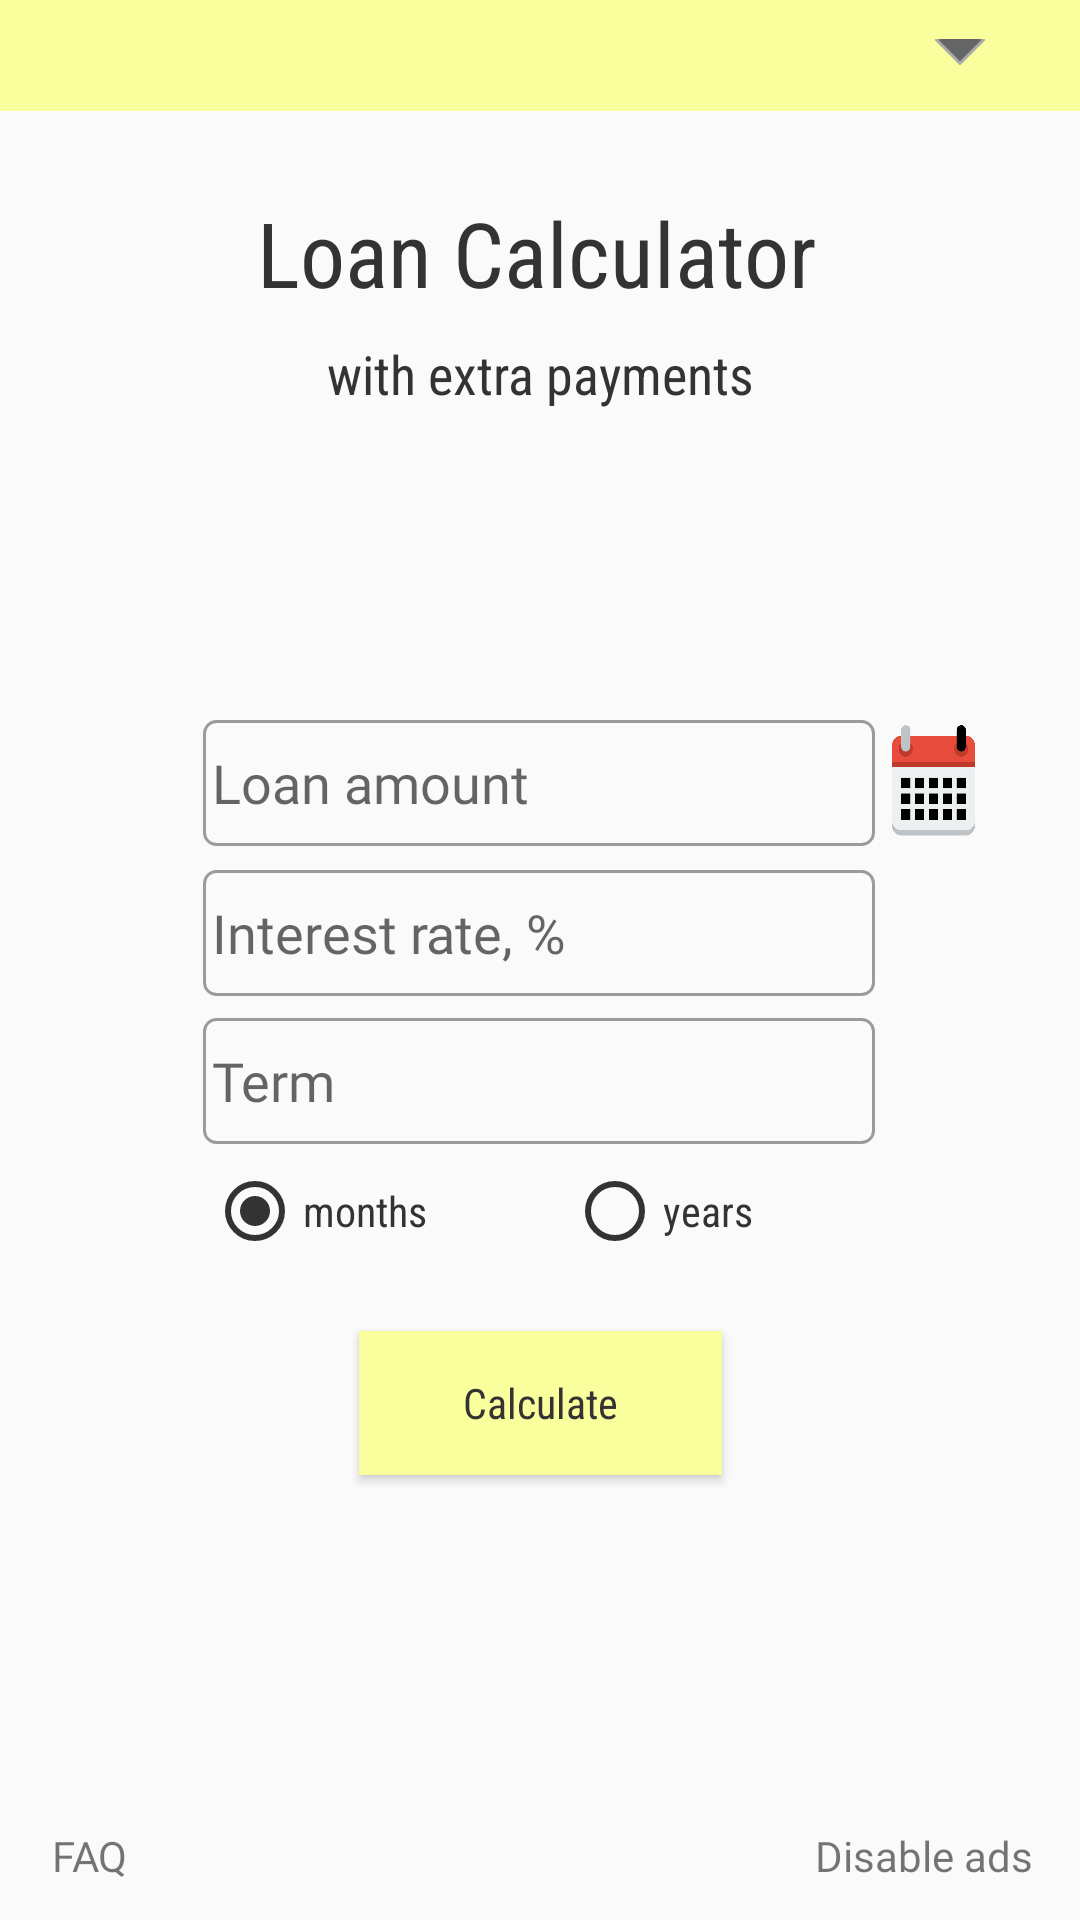

Screen size 1080px x 1920px. Icon name, then its box in pixels as [x1,y1,x2,y2]:
calendar: [892,725,975,836]
